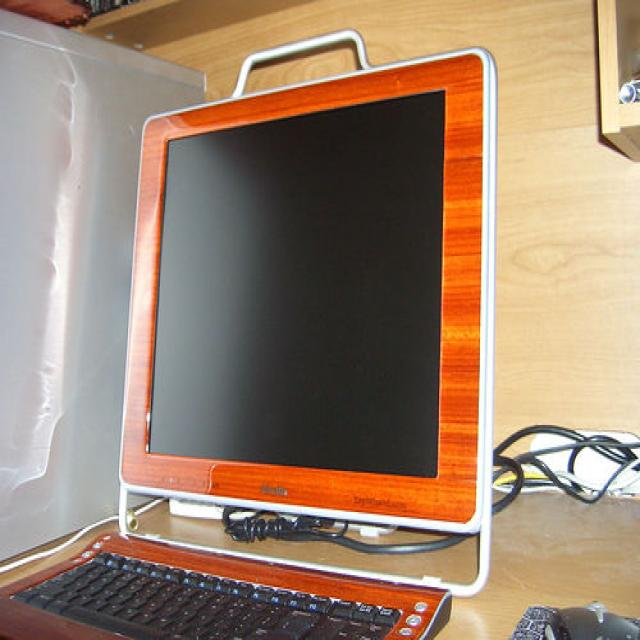tvmonitor: (116, 25, 502, 602)
